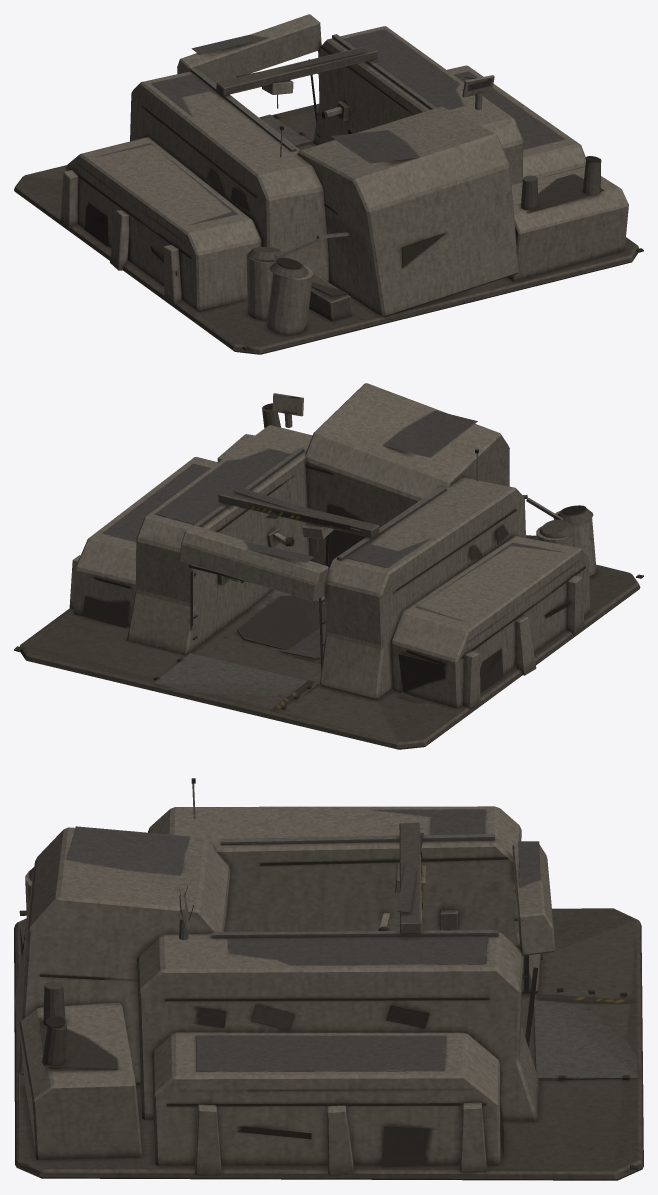
Rendered from ord_advvehplant_wreck.fbx.
3 views of the same model, one above another, from view 1: azimuth 30°, elevation 25°; view 2: azimuth 150°, elevation 25°; view 3: azimuth 270°, elevation 25° (orthographic). The views are drawn at different scales.
Visible parts, largest first — view 1: base_bar, gantry_bar, radar_bar; view 2: base_bar, gantry_bar, radar_bar; view 3: base_bar, gantry_bar.
Boxes of the visible parts, <box> form: base_bar: <box>14,14,643,354</box>; gantry_bar: <box>216,45,377,108</box>; radar_bar: <box>462,75,494,97</box>; base_bar: <box>14,383,643,749</box>; gantry_bar: <box>218,487,379,551</box>; radar_bar: <box>272,393,303,416</box>; base_bar: <box>14,778,643,1180</box>; gantry_bar: <box>395,822,425,933</box>.
Size of the model in its own units: 4772 by 2023 by 4760.
Materials: 2 (2 with a texture image).
